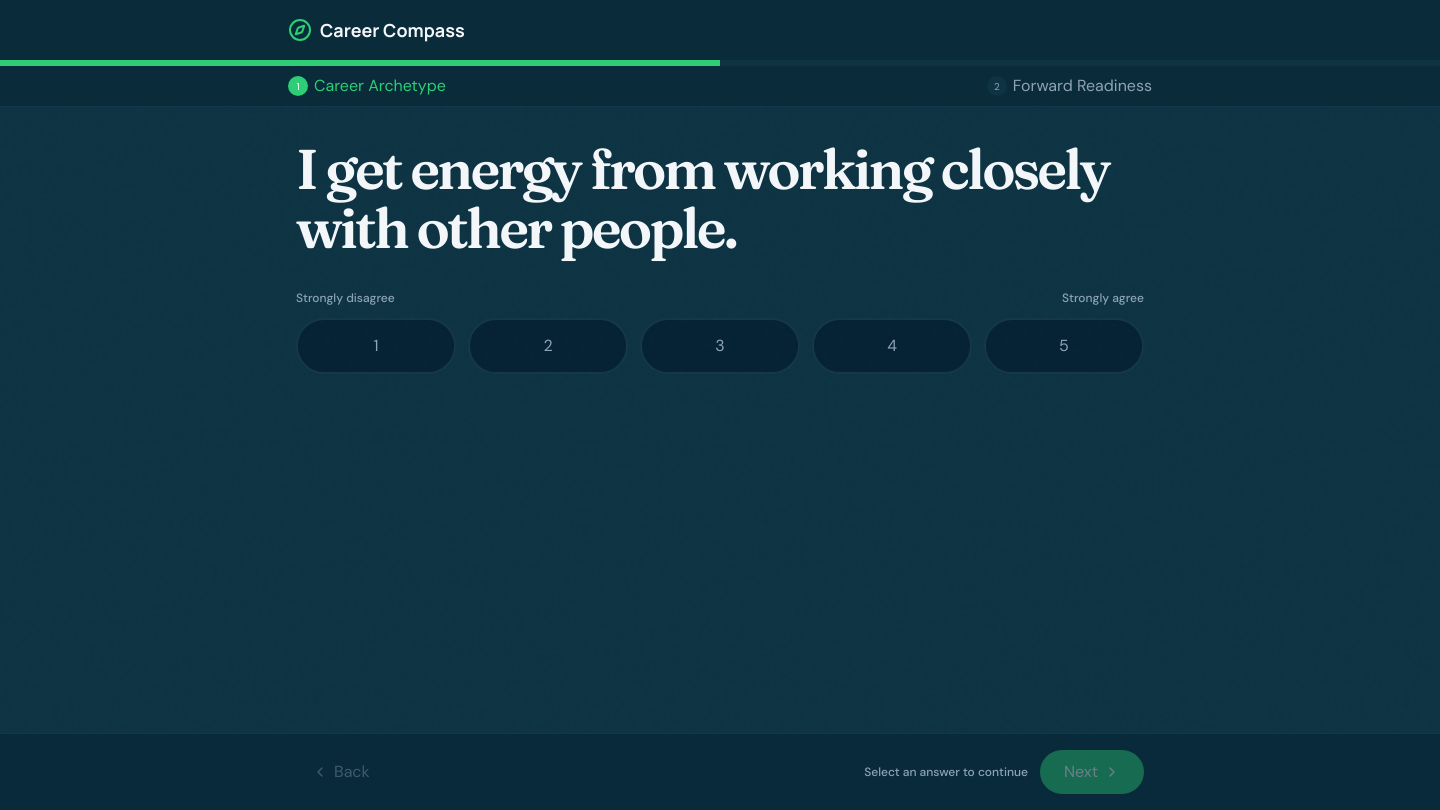
Test: CareerCompassAssessmentPage › resumes at the first genuinely unanswered question, merging existing progress with the just-given answer
Expected: the heading "I get energy from working closely with other people." is shown, [296,139,1144,258]
Click the button "3": (720, 346) [640,318,800,374]
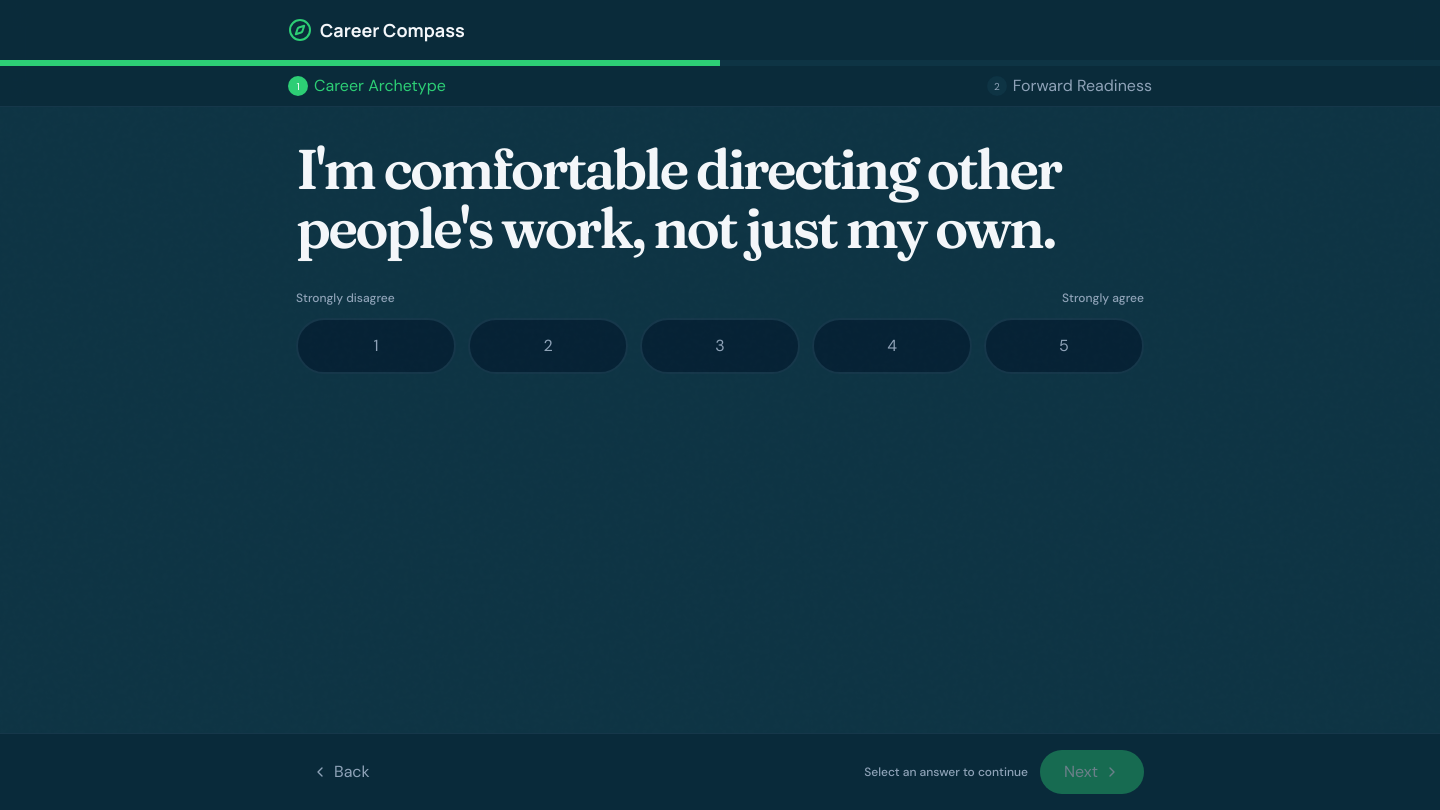
Now the heading "I'm comfortable directing other people's work, not just my own." is shown, box [296,139,1144,258]
